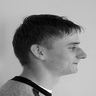ear: (28, 40, 50, 63)
